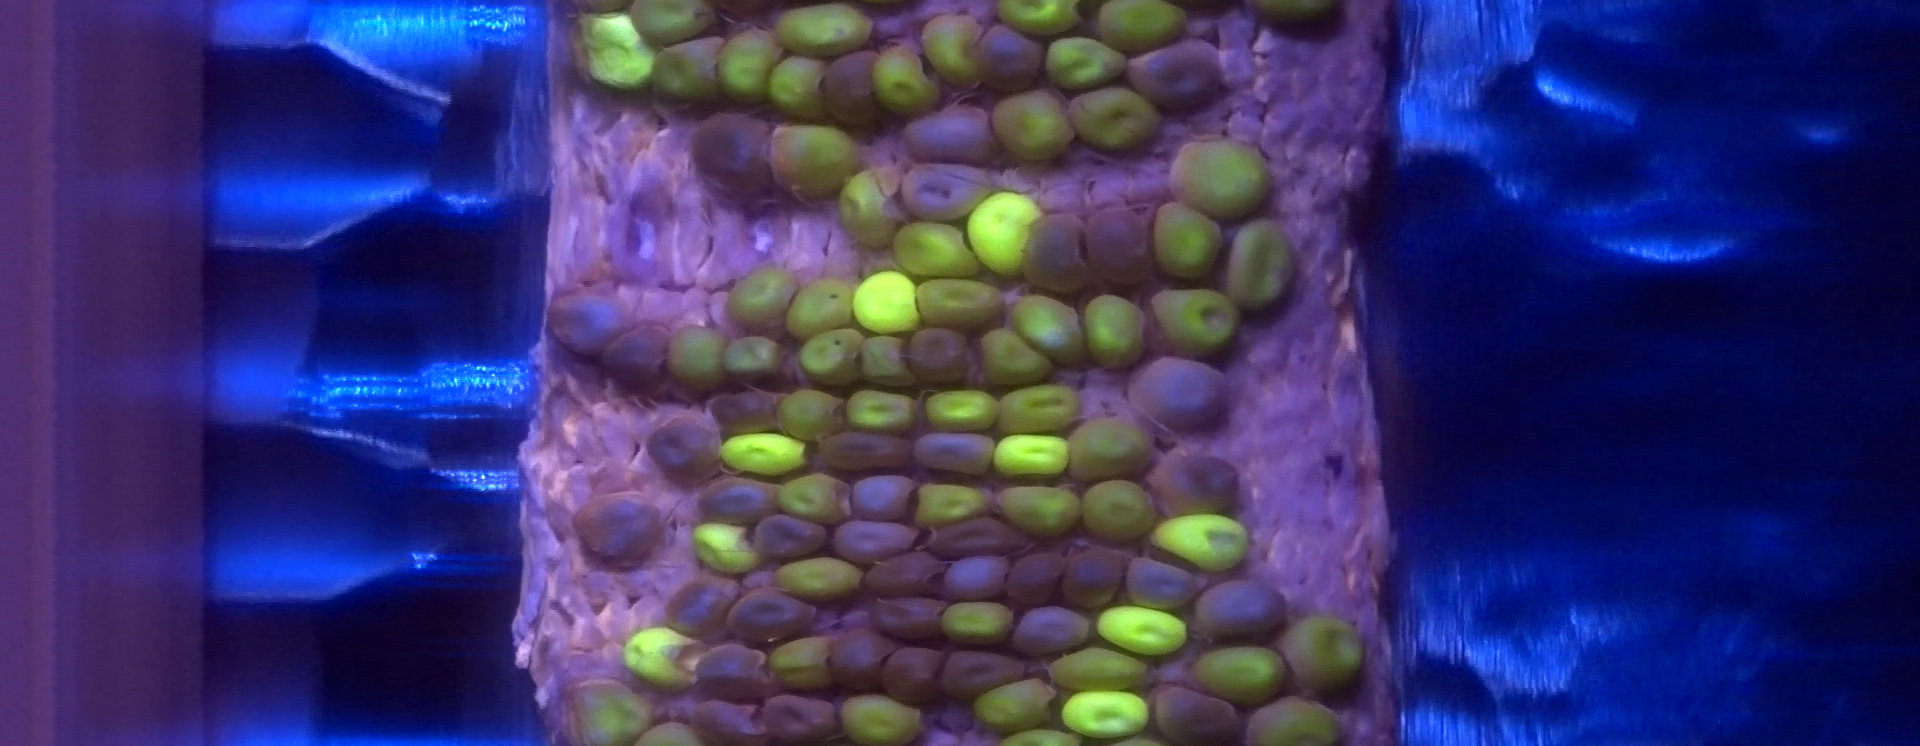fluorescent: (1164, 134, 1276, 220), (762, 119, 869, 205), (1221, 216, 1305, 317), (964, 187, 1051, 283), (1278, 611, 1369, 699), (984, 85, 1084, 164), (571, 9, 660, 96), (1063, 85, 1166, 157), (1149, 284, 1248, 358), (1149, 510, 1260, 575), (1062, 414, 1160, 488), (1005, 290, 1092, 372), (1145, 198, 1228, 283), (1190, 642, 1294, 709), (885, 216, 986, 285), (764, 1, 880, 61), (864, 40, 950, 119), (1079, 288, 1153, 377), (620, 621, 710, 693), (1041, 643, 1161, 696), (846, 265, 931, 339), (835, 164, 904, 255), (1239, 692, 1354, 746), (1090, 603, 1195, 661), (916, 10, 987, 96), (568, 680, 660, 746), (993, 478, 1086, 543), (1078, 474, 1160, 548), (721, 265, 806, 336), (648, 33, 729, 107), (831, 688, 932, 746), (1040, 32, 1134, 93), (793, 323, 874, 394), (975, 325, 1062, 390), (912, 274, 1010, 332), (711, 27, 779, 110), (1093, 1, 1195, 56), (969, 673, 1059, 734), (767, 551, 868, 605), (780, 277, 866, 341), (662, 320, 735, 394), (688, 517, 771, 581), (1056, 686, 1155, 739), (760, 51, 831, 125), (989, 381, 1080, 439), (716, 428, 812, 480), (986, 428, 1079, 481), (770, 468, 855, 527), (850, 330, 923, 394), (765, 633, 841, 696), (773, 383, 847, 446), (920, 385, 1009, 436), (838, 386, 924, 439), (627, 1, 722, 49), (936, 597, 1020, 649), (907, 481, 992, 530), (989, 1, 1089, 39), (720, 332, 789, 386)
nonfluorescent: (1118, 349, 1229, 439), (1120, 31, 1224, 118), (686, 110, 780, 202), (569, 490, 664, 572), (1190, 575, 1291, 650), (1145, 450, 1244, 526), (1078, 201, 1160, 290), (540, 281, 629, 361), (895, 158, 999, 225), (1021, 211, 1096, 304), (898, 100, 1000, 167), (1144, 681, 1251, 744), (688, 642, 785, 708), (724, 584, 819, 650), (642, 415, 729, 488), (969, 20, 1049, 96), (656, 571, 742, 642), (593, 323, 676, 394), (816, 47, 888, 127), (936, 641, 1030, 702), (688, 474, 792, 529), (814, 425, 920, 478), (920, 512, 1026, 563), (1007, 601, 1092, 665), (824, 624, 898, 697), (910, 423, 1000, 481), (906, 325, 978, 393), (1124, 552, 1202, 615), (869, 589, 950, 649), (1057, 548, 1131, 612), (746, 512, 831, 568), (824, 514, 920, 565), (707, 385, 797, 437), (860, 549, 949, 601), (998, 548, 1071, 611), (844, 472, 924, 526), (937, 550, 1011, 606), (756, 692, 838, 742), (878, 646, 945, 704)
